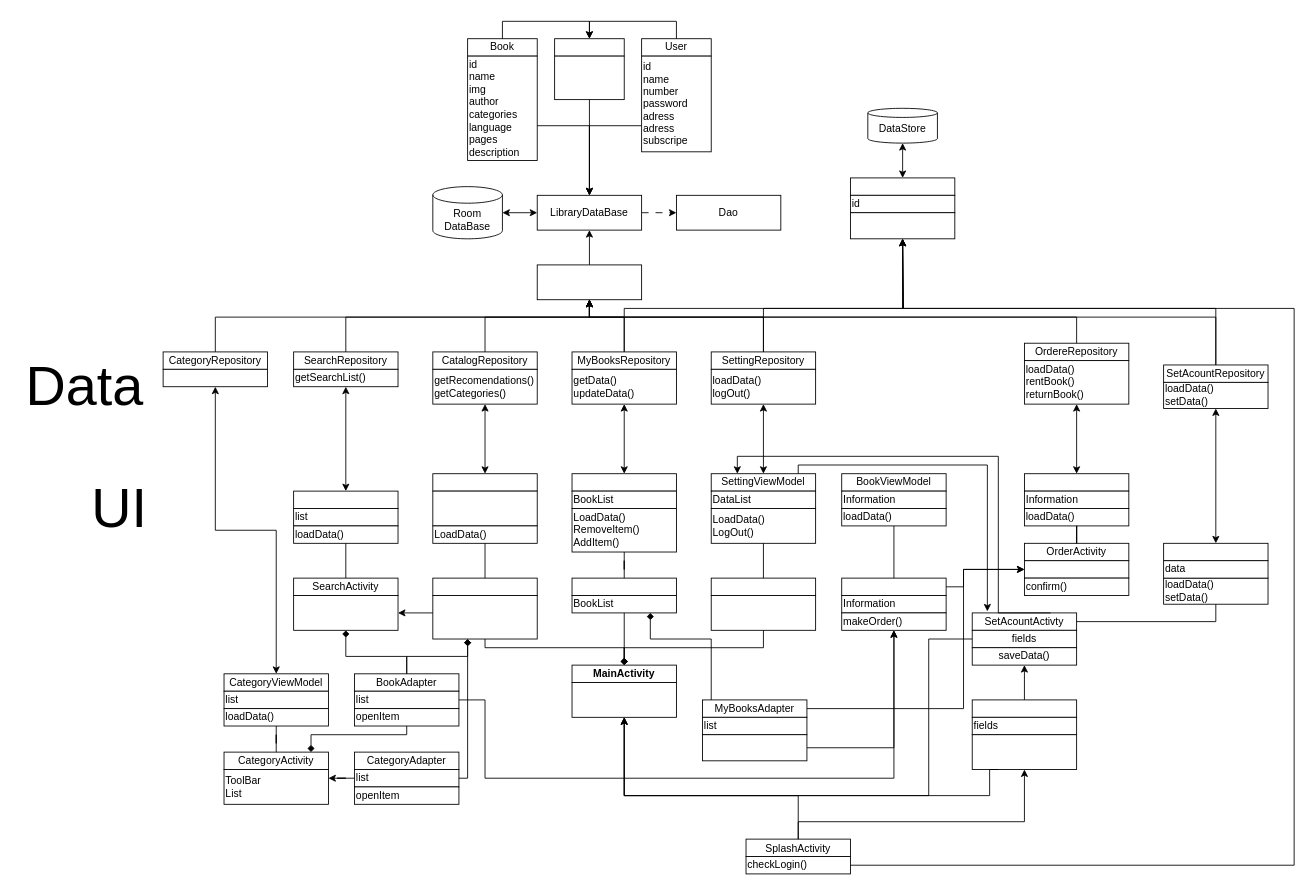
This 1316x889 diagram has some shape labels left out. Here are the shapes that lost their labels. From the top down, the centre of each, then its label:
At point (589, 47): "RentBooks".
At point (589, 77): "userId bookId date".
At point (902, 186): "CurrentUserObject".
At point (902, 225): "setUser() getUser()".
At point (589, 282): "DataBaseObject".
At point (215, 377): "getList()".
At point (345, 499): "SearchViewModel".
At point (484, 482): "CatalogViewModel".
At point (623, 482): "MyBooksViewModel".
At point (1076, 482): "OrderViewModel".
At point (484, 508): "RecomendBookList CategoryList".
At point (1076, 569): "Info".
At point (1215, 551): "SetAcountViewModel".
At point (484, 586): "CatalogFragment".
At point (623, 586): "MyBooksFragment".
At point (763, 586): "SettingsFragment".
At point (893, 586): "BookActivity".
At point (345, 612): "SearchText SeachList".
At point (484, 617): "SearchField RecomendBookList CategoryList".
At point (763, 612): "DataList SetUpList".
At point (623, 699): "FragmentContainer MenuBar".
At point (1024, 708): "LoginActivity".
At point (754, 747): "openItem() returnBook()".
At point (1024, 752): "Login() Register()".
